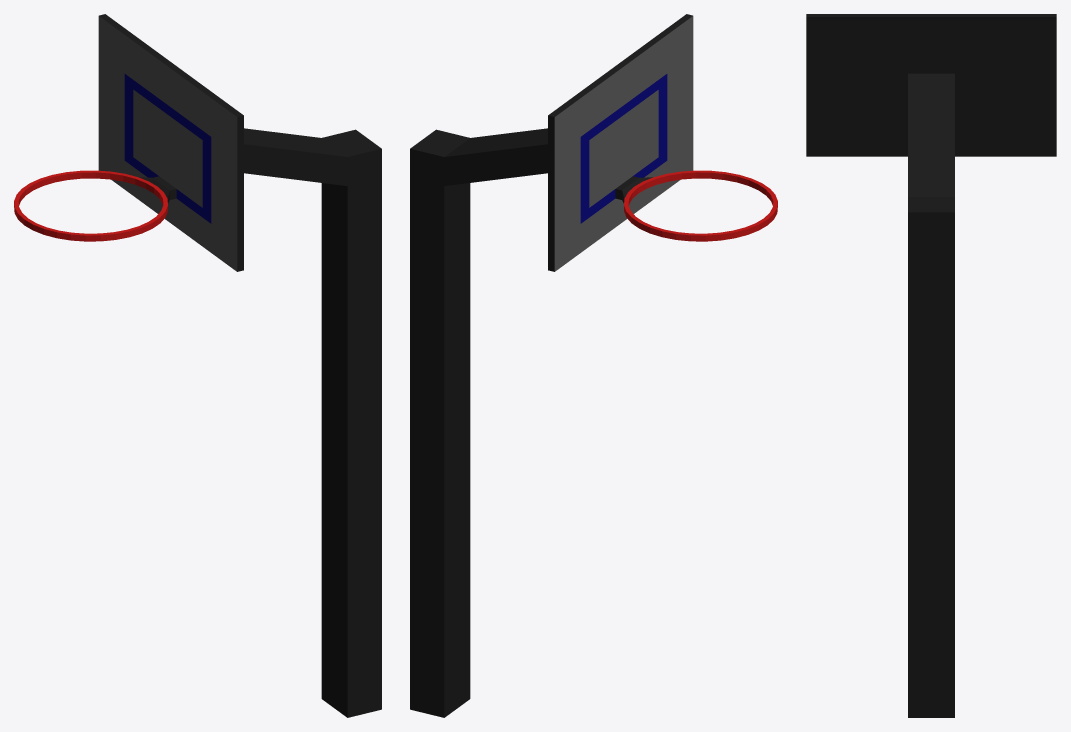
Rendered from Hoop.obj.
The picture shows the model from 3 angles, left to right: view 1: azimuth 30°, elevation 25°; view 2: azimuth 150°, elevation 25°; view 3: azimuth 270°, elevation 25°; orthographic projection. The views are drawn at different scales.
Parts seen in each view (by area): view 1: Circle; view 2: Circle; view 3: Circle.
Boxes of the visible parts, box(x1,y1,x2,y2) form: Circle: box(14, 14, 381, 717); Circle: box(410, 14, 777, 717); Circle: box(806, 14, 1056, 717).
Size of the model in its own units: 1.81 by 3.42 by 1.26.
